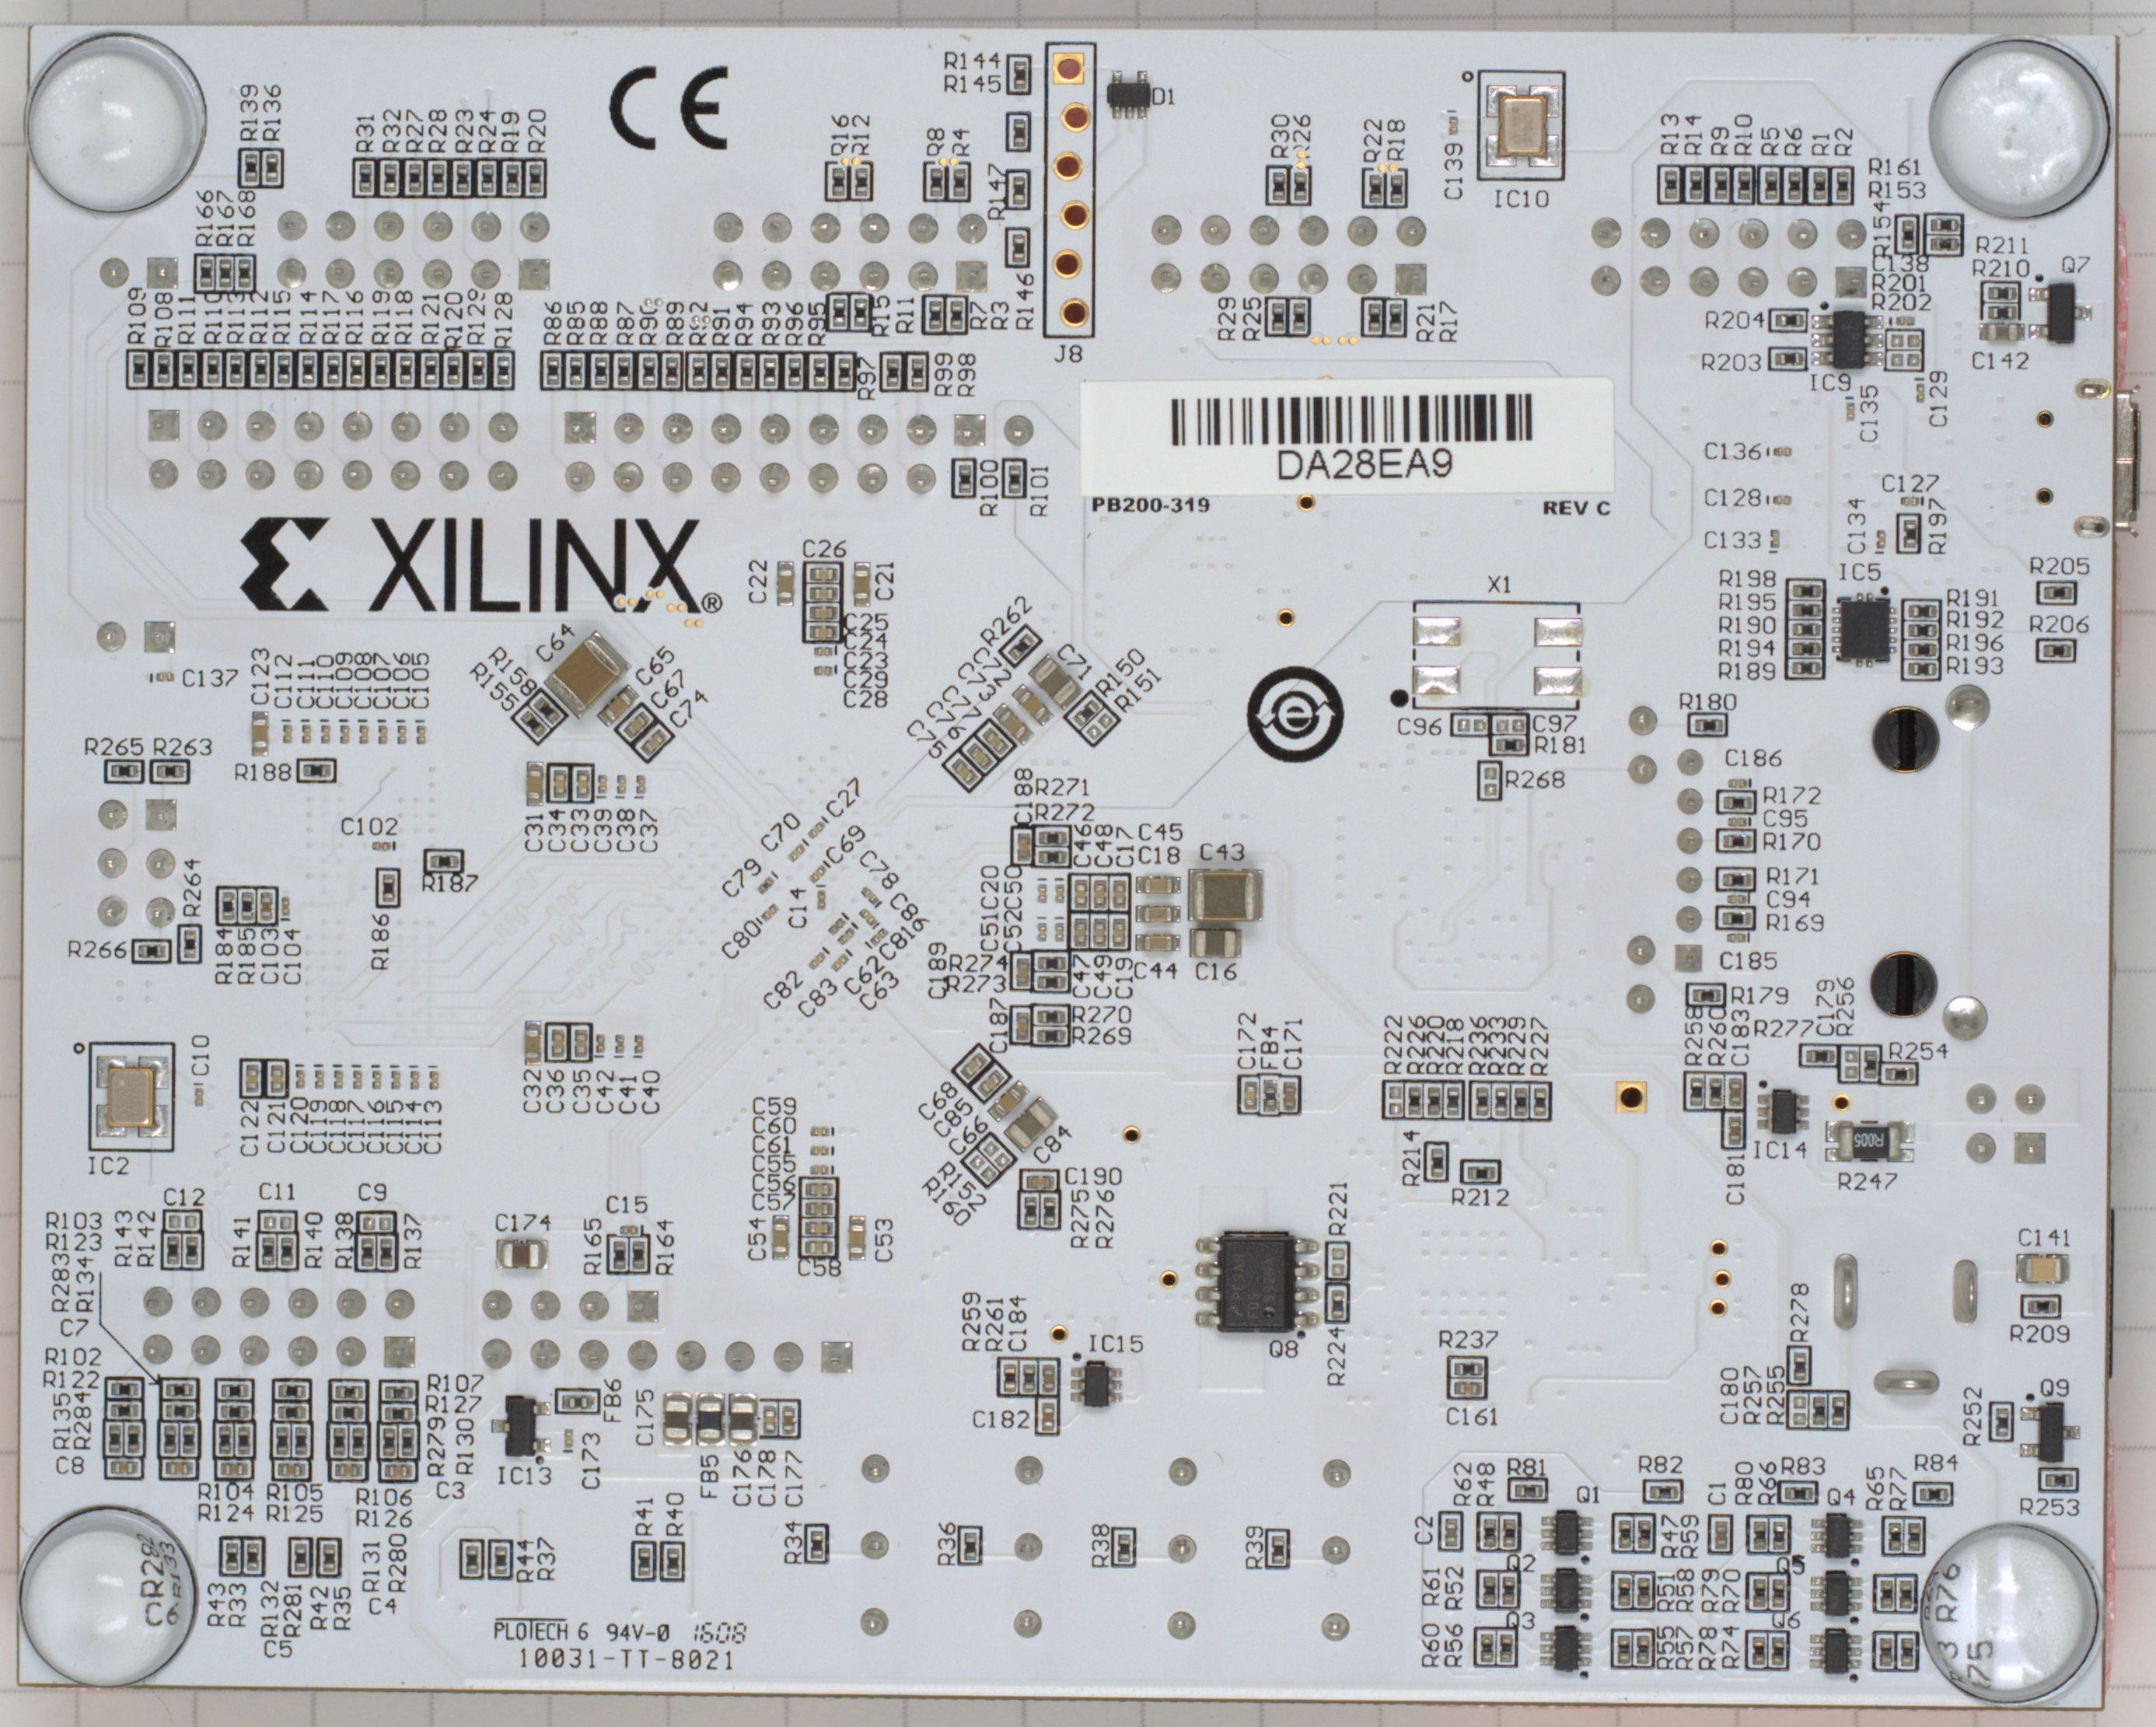capacitor C1: (1712, 1519, 1730, 1551)
capacitor C10: (194, 1087, 204, 1107)
capacitor C102: (372, 841, 391, 851)
capacitor C103: (259, 890, 275, 923)
capacitor C104: (280, 893, 291, 916)
capacitor C105: (416, 724, 426, 745)
capacitor C106: (398, 724, 407, 745)
capacitor C107: (379, 726, 388, 745)
capacitor C108: (358, 724, 368, 744)
capacitor C109: (338, 724, 349, 744)
capacitor C110: (319, 724, 329, 744)
capacitor C111: (301, 724, 312, 744)
capacitor C112: (282, 724, 292, 744)
capacitor C113: (428, 1070, 440, 1093)
capacitor C114: (409, 1070, 421, 1093)
capacitor C115: (389, 1070, 402, 1093)
capacitor C116: (372, 1070, 384, 1093)
capacitor C117: (352, 1068, 365, 1091)
capacitor C118: (333, 1068, 345, 1091)
capacitor C119: (314, 1068, 326, 1091)
capacitor C120: (294, 1068, 305, 1091)
capacitor C121: (269, 1064, 285, 1093)
capacitor C122: (245, 1064, 259, 1093)
capacitor C123: (252, 710, 268, 758)
capacitor C127: (1897, 497, 1920, 508)
capacitor C128: (1772, 495, 1793, 506)
capacitor C129: (1913, 382, 1925, 404)
capacitor C133: (1768, 529, 1781, 550)
capacitor C134: (1874, 529, 1887, 550)
capacitor C135: (1844, 400, 1857, 421)
capacitor C136: (1772, 446, 1793, 456)
capacitor C137: (155, 670, 176, 684)
capacitor C138: (1894, 315, 1916, 326)
capacitor C14: (816, 888, 828, 913)
capacitor C141: (2015, 1253, 2071, 1285)
capacitor C142: (1978, 324, 2024, 340)
capacitor C15: (618, 1225, 639, 1235)
capacitor C16: (1189, 927, 1242, 959)
capacitor C161: (1453, 1380, 1485, 1396)
capacitor C17: (1111, 879, 1127, 909)
capacitor C171: (1282, 1080, 1298, 1112)
capacitor C172: (1242, 1080, 1258, 1110)
capacitor C173: (564, 1427, 574, 1449)
capacitor C174: (495, 1237, 550, 1271)
capacitor C175: (662, 1390, 694, 1449)
capacitor C176: (727, 1390, 759, 1449)
capacitor C177: (782, 1405, 796, 1436)
capacitor C178: (761, 1403, 777, 1434)
capacitor C18: (1136, 904, 1180, 923)
capacitor C181: (1728, 1114, 1742, 1145)
capacitor C183: (1728, 1077, 1742, 1108)
capacitor C184: (1041, 1362, 1057, 1394), (1041, 1401, 1057, 1431)
capacitor C185: (1724, 932, 1746, 945)
capacitor C186: (1726, 777, 1749, 789)
capacitor C187: (1015, 1010, 1030, 1041)
capacitor C188: (1016, 832, 1030, 862)
capacitor C189: (1015, 957, 1030, 987)
capacitor C19: (1111, 916, 1127, 948)
capacitor C190: (1025, 1174, 1055, 1190)
capacitor C195: (1726, 816, 1747, 826)
capacitor C2: (1443, 1516, 1460, 1547)
capacitor C20: (1037, 883, 1048, 904)
capacitor C21: (853, 560, 870, 608)
capacitor C22: (777, 560, 794, 608)
capacitor C23: (808, 624, 838, 641)
capacitor C24: (808, 604, 838, 622)
capacitor C25: (808, 585, 838, 603)
capacitor C26: (808, 566, 838, 582)
capacitor C27: (807, 821, 826, 841)
capacitor C28: (812, 664, 833, 678)
capacitor C29: (812, 647, 833, 657)
capacitor C3: (382, 1463, 414, 1480)
capacitor C31: (525, 761, 544, 809)
capacitor C32: (525, 1019, 543, 1066)
capacitor C33: (576, 768, 590, 800)
capacitor C34: (551, 768, 569, 797)
capacitor C35: (572, 1027, 588, 1059)
capacitor C36: (550, 1026, 565, 1059)
capacitor C37: (634, 772, 648, 795)
capacitor C38: (615, 772, 629, 795)
capacitor C39: (597, 772, 609, 795)
capacitor C4: (333, 1463, 365, 1480)
capacitor C40: (632, 1033, 645, 1054)
capacitor C41: (613, 1033, 625, 1054)
capacitor C42: (594, 1031, 608, 1054)
capacitor C43: (1187, 867, 1265, 923)
capacitor C44: (1134, 932, 1180, 952)
capacitor C45: (1134, 876, 1180, 895)
capacitor C46: (1073, 879, 1089, 909)
capacitor C47: (1073, 916, 1089, 948)
capacitor C48: (1092, 879, 1108, 909)
capacitor C49: (1092, 916, 1108, 946)
capacitor C5: (277, 1461, 308, 1479)
capacitor C50: (1055, 883, 1066, 904)
capacitor C51: (1037, 922, 1048, 943)
capacitor C52: (1055, 922, 1064, 943)
capacitor C53: (849, 1216, 867, 1262)
capacitor C54: (772, 1214, 789, 1260)
capacitor C55: (803, 1181, 835, 1198)
capacitor C56: (803, 1202, 835, 1216)
capacitor C57: (803, 1221, 833, 1235)
capacitor C58: (803, 1239, 833, 1255)
capacitor C59: (810, 1126, 830, 1138)
capacitor C6: (218, 1461, 252, 1479)
capacitor C60: (810, 1145, 830, 1158)
capacitor C61: (810, 1163, 830, 1175)
capacitor C62: (826, 915, 847, 938)
capacitor C63: (835, 927, 856, 946)
capacitor C64: (539, 627, 634, 721)
capacitor C65: (592, 682, 641, 728)
capacitor C66: (986, 1078, 1032, 1124)
capacitor C67: (622, 708, 652, 740)
capacitor C68: (960, 1052, 988, 1084)
capacitor C69: (808, 863, 826, 885)
capacitor C7: (164, 1459, 196, 1477)
capacitor C70: (786, 842, 807, 862)
capacitor C71: (1025, 654, 1085, 710)
capacitor C72: (1011, 684, 1055, 726)
capacitor C73: (990, 701, 1036, 747)
capacitor C74: (638, 728, 669, 758)
capacitor C75: (949, 756, 978, 788)
capacitor C76: (964, 740, 993, 772)
capacitor C77: (981, 728, 1009, 754)
capacitor C78: (860, 885, 882, 906)
capacitor C79: (756, 874, 775, 895)
capacitor C8: (109, 1459, 139, 1475)
capacitor C81: (868, 925, 888, 946)
capacitor C82: (807, 952, 826, 971)
capacitor C83: (830, 952, 849, 973)
capacitor C84: (1002, 1094, 1062, 1153)
capacitor C85: (976, 1068, 1009, 1098)
capacitor C86: (858, 906, 879, 927)
capacitor C94: (1726, 893, 1747, 906)
component text" "PE9AH FDS 9926A: (1229, 1251, 1279, 1323)
component text" R005: (1851, 1130, 1885, 1151)
connector J8: (1050, 48, 1090, 331)
connector UNKNOWN: (2075, 375, 2142, 543)
diode D1: (1108, 69, 1150, 120)
ferrite bead" FB4: (1263, 1078, 1281, 1114)
ferrite bead" FB5: (696, 1390, 727, 1449)
ferrite bead" FB6: (560, 1394, 597, 1410)
ic IC10: (1485, 83, 1559, 169)
ic IC13: (491, 1396, 551, 1457)
ic IC14: (1758, 1089, 1811, 1135)
ic IC15: (1069, 1360, 1124, 1410)
ic IC2: (93, 1052, 173, 1140)
ic IC5: (1830, 590, 1897, 668)
ic IC9: (1811, 310, 1883, 370)
pads C11: (262, 1214, 294, 1230)
pads C12: (167, 1214, 199, 1228)
pads C179: (1844, 1049, 1858, 1080)
pads C180: (1791, 1394, 1805, 1426)
pads C9: (361, 1216, 393, 1230)
pads C96: (1455, 717, 1487, 733)
pads C97: (1492, 717, 1525, 733)
pads R151: (1083, 712, 1115, 740)
pads R152: (981, 1142, 1011, 1170)
pads R160: (969, 1154, 999, 1184)
pads R201: (1888, 333, 1922, 349)
pads R202: (1887, 352, 1920, 368)
pads R221: (1330, 1246, 1346, 1278)
pads R222: (1388, 1086, 1402, 1117)
pads R268: (1483, 765, 1497, 797)
pads x1: (1409, 599, 1584, 710)
pins UNKNOWN: (558, 409, 1037, 497), (144, 405, 523, 497), (477, 1286, 861, 1376), (137, 1283, 419, 1373), (1148, 210, 1430, 296), (1587, 213, 1869, 300), (710, 210, 990, 296), (273, 208, 553, 293), (1828, 1249, 1983, 1396), (97, 797, 176, 929), (1960, 1080, 2050, 1167), (1672, 745, 1705, 976), (856, 1449, 890, 1641), (1011, 1452, 1045, 1644), (1166, 1456, 1200, 1648), (1319, 1454, 1353, 1646), (93, 619, 180, 657), (1624, 701, 1661, 788), (1624, 932, 1659, 1019), (99, 256, 180, 291)
pins unknown: (1936, 678, 1992, 1049)
resistor R1: (1811, 169, 1827, 201)
resistor R10: (1735, 169, 1751, 201)
resistor R100: (956, 463, 972, 495)
resistor R101: (1006, 463, 1022, 495)
resistor R102: (109, 1382, 139, 1396)
resistor R103: (166, 1382, 196, 1397)
resistor R104: (218, 1382, 250, 1397)
resistor R105: (277, 1383, 306, 1397)
resistor R106: (335, 1383, 365, 1399)
resistor R107: (382, 1383, 416, 1401)
resistor R108: (157, 352, 171, 386)
resistor R109: (130, 352, 146, 384)
resistor R11: (851, 296, 867, 328)
resistor R110: (204, 352, 220, 384)
resistor R111: (180, 352, 197, 384)
resistor R112: (252, 352, 268, 384)
resistor R113: (227, 352, 245, 384)
resistor R114: (299, 352, 315, 384)
resistor R115: (275, 352, 291, 384)
resistor R116: (347, 352, 363, 384)
resistor R117: (326, 354, 340, 386)
resistor R118: (398, 354, 412, 386)
resistor R119: (372, 354, 388, 386)
resistor R12: (853, 166, 868, 197)
resistor R120: (446, 354, 461, 386)
resistor R121: (423, 354, 439, 386)
resistor R122: (109, 1403, 139, 1419)
resistor R123: (164, 1403, 196, 1419)
resistor R124: (218, 1403, 252, 1420)
resistor R125: (275, 1403, 306, 1420)
resistor R126: (333, 1405, 365, 1422)
resistor R127: (382, 1405, 414, 1422)
resistor R128: (495, 354, 511, 386)
resistor R129: (470, 354, 484, 386)
resistor R13: (1663, 167, 1679, 199)
resistor R130: (400, 1424, 417, 1457)
resistor R131: (331, 1424, 347, 1457)
resistor R132: (273, 1424, 291, 1456)
resistor R133: (236, 1424, 252, 1456)
resistor R134: (181, 1422, 197, 1456)
resistor R135: (106, 1422, 123, 1456)
resistor R136: (264, 152, 278, 183)
resistor R137: (379, 1237, 393, 1269)
resistor R138: (243, 152, 259, 185), (361, 1237, 375, 1269)
resistor R14: (1687, 169, 1703, 201)
resistor R140: (280, 1237, 294, 1267)
resistor R141: (261, 1235, 277, 1267)
resistor R142: (185, 1235, 199, 1265)
resistor R143: (166, 1235, 180, 1265)
resistor R144: (1013, 58, 1027, 92)
resistor R145: (1011, 116, 1027, 148)
resistor R146: (1009, 233, 1027, 264)
resistor R147: (1009, 174, 1027, 206)
resistor R15: (831, 296, 847, 328)
resistor R150: (1071, 698, 1101, 728)
resistor R153: (1929, 236, 1959, 252)
resistor R154: (1901, 219, 1915, 250)
resistor R155: (518, 710, 548, 738)
resistor R158: (530, 696, 560, 724)
resistor R16: (830, 166, 845, 199)
resistor R161: (1929, 219, 1960, 233)
resistor R164: (632, 1239, 646, 1271)
resistor R165: (613, 1241, 627, 1271)
resistor R166: (199, 257, 213, 289)
resistor R167: (218, 257, 233, 289)
resistor R168: (236, 257, 252, 289)
resistor R169: (1721, 909, 1751, 927)
resistor R17: (1386, 303, 1402, 333)
resistor R171: (1721, 872, 1753, 888)
resistor R172: (1721, 795, 1753, 811)
resistor R179: (1691, 987, 1723, 1003)
resistor R18: (1388, 173, 1404, 204)
resistor R180: (1693, 717, 1724, 735)
resistor R181: (1494, 737, 1525, 754)
resistor R184: (220, 890, 236, 923)
resistor R185: (240, 890, 255, 923)
resistor R186: (380, 872, 395, 902)
resistor R187: (428, 853, 458, 869)
resistor R188: (303, 761, 331, 777)
resistor R189: (1790, 661, 1820, 675)
resistor R19: (504, 162, 520, 196)
resistor R190: (1790, 622, 1821, 638)
resistor R191: (1906, 603, 1938, 619)
resistor R192: (1906, 622, 1938, 638)
resistor R193: (1904, 661, 1938, 677)
resistor R194: (1790, 641, 1821, 657)
resistor R195: (1790, 603, 1821, 619)
resistor R196: (1904, 641, 1938, 657)
resistor R197: (1902, 516, 1916, 552)
resistor R198: (1790, 583, 1821, 599)
resistor R2: (1834, 169, 1850, 201)
resistor R20: (527, 162, 543, 196)
resistor R203: (1772, 351, 1804, 367)
resistor R204: (1774, 312, 1805, 330)
resistor R205: (2042, 583, 2073, 603)
resistor R206: (2040, 641, 2071, 659)
resistor R209: (2026, 1299, 2057, 1316)
resistor R21: (1367, 303, 1381, 333)
resistor R210: (1985, 305, 2017, 321)
resistor R211: (1983, 285, 2017, 301)
resistor R212: (1466, 1165, 1497, 1181)
resistor R214: (1429, 1147, 1444, 1179)
resistor R218: (1446, 1086, 1460, 1117)
resistor R22: (1367, 173, 1383, 204)
resistor R220: (1427, 1086, 1441, 1117)
resistor R224: (1328, 1285, 1347, 1323)
resistor R226: (1407, 1086, 1421, 1117)
resistor R227: (1532, 1086, 1547, 1117)
resistor R229: (1513, 1086, 1527, 1117)
resistor R23: (454, 162, 470, 196)
resistor R233: (1494, 1086, 1510, 1117)
resistor R236: (1474, 1086, 1490, 1117)
resistor R237: (1453, 1360, 1485, 1376)
resistor R24: (479, 162, 495, 196)
resistor R247: (1825, 1119, 1916, 1163)
resistor R25: (1291, 301, 1307, 331)
resistor R252: (1994, 1406, 2012, 1440)
resistor R253: (2043, 1471, 2077, 1489)
resistor R254: (1885, 1066, 1916, 1082)
resistor R255: (1830, 1394, 1846, 1426)
resistor R256: (1864, 1049, 1879, 1078)
resistor R257: (1811, 1396, 1827, 1427)
resistor R258: (1687, 1075, 1702, 1105)
resistor R259: (1002, 1362, 1018, 1394)
resistor R26: (1293, 171, 1307, 203)
resistor R260: (1709, 1077, 1723, 1107)
resistor R261: (1022, 1362, 1036, 1394)
resistor R262: (1006, 633, 1036, 661)
resistor R263: (155, 763, 185, 779)
resistor R264: (181, 927, 197, 959)
resistor R265: (109, 763, 139, 781)
resistor R266: (136, 943, 167, 960)
resistor R269: (1036, 1027, 1067, 1043)
resistor R27: (407, 162, 423, 194)
resistor R270: (1036, 1008, 1067, 1026)
resistor R271: (1037, 830, 1067, 846)
resistor R272: (1036, 849, 1067, 865)
resistor R273: (1036, 973, 1067, 990)
resistor R274: (1036, 955, 1067, 971)
resistor R275: (1023, 1195, 1037, 1227)
resistor R276: (1041, 1195, 1057, 1227)
resistor R277: (1805, 1049, 1835, 1064)
resistor R278: (1791, 1350, 1807, 1382)
resistor R279: (380, 1426, 398, 1457)
resistor R28: (430, 162, 444, 194)
resistor R280: (351, 1426, 366, 1457)
resistor R281: (292, 1424, 310, 1456)
resistor R282: (217, 1424, 233, 1456)
resistor R283: (162, 1422, 178, 1456)
resistor R284: (127, 1422, 141, 1456)
resistor R29: (1270, 301, 1284, 331)
resistor R3: (949, 298, 964, 331)
resistor R30: (1272, 171, 1286, 203)
resistor R31: (358, 162, 372, 194)
resistor R32: (380, 162, 398, 194)
resistor R33: (245, 1542, 261, 1574)
resistor R34: (808, 1528, 824, 1561)
resistor R35: (321, 1542, 338, 1574)
resistor R36: (962, 1531, 978, 1563)
resistor R37: (493, 1544, 509, 1575)
resistor R38: (1117, 1533, 1133, 1565)
resistor R39: (1270, 1533, 1286, 1565)
resistor R4: (951, 167, 965, 199)
resistor R40: (666, 1547, 682, 1579)
resistor R41: (638, 1545, 652, 1577)
resistor R42: (292, 1542, 310, 1574)
resistor R43: (225, 1540, 240, 1572)
resistor R44: (465, 1544, 481, 1575)
resistor R47: (1617, 1517, 1631, 1551)
resistor R48: (1501, 1516, 1517, 1549)
resistor R5: (1763, 169, 1777, 201)
resistor R51: (1617, 1575, 1631, 1607)
resistor R52: (1501, 1574, 1517, 1607)
resistor R55: (1615, 1634, 1631, 1667)
resistor R56: (1499, 1632, 1513, 1664)
resistor R57: (1635, 1634, 1650, 1667)
resistor R58: (1636, 1575, 1652, 1607)
resistor R59: (1638, 1517, 1652, 1551)
resistor R6: (1786, 169, 1802, 201)
resistor R60: (1480, 1632, 1494, 1664)
resistor R61: (1481, 1574, 1497, 1605)
resistor R62: (1481, 1516, 1497, 1549)
resistor R65: (1887, 1521, 1904, 1553)
resistor R66: (1772, 1521, 1788, 1551)
resistor R69: (1878, 1577, 1894, 1611)
resistor R7: (927, 300, 942, 331)
resistor R70: (1770, 1577, 1786, 1609)
resistor R73: (1878, 1635, 1894, 1669)
resistor R74: (1770, 1634, 1786, 1667)
resistor R75: (1899, 1635, 1915, 1669)
resistor R76: (1897, 1579, 1913, 1611)
resistor R77: (1906, 1521, 1922, 1554)
resistor R78: (1751, 1634, 1767, 1667)
resistor R79: (1751, 1575, 1768, 1609)
resistor R8: (928, 166, 942, 199)
resistor R80: (1753, 1519, 1767, 1551)
resistor R81: (1513, 1482, 1545, 1500)
resistor R82: (1647, 1484, 1680, 1501)
resistor R83: (1783, 1486, 1816, 1501)
resistor R84: (1916, 1486, 1950, 1503)
resistor R85: (565, 352, 583, 386)
resistor R86: (544, 356, 560, 386)
resistor R87: (615, 354, 631, 388)
resistor R88: (592, 354, 609, 388)
resistor R89: (664, 354, 680, 388)
resistor R9: (1712, 169, 1728, 201)
resistor R90: (641, 354, 657, 388)
resistor R91: (713, 356, 729, 388)
resistor R92: (690, 356, 706, 388)
resistor R93: (763, 356, 777, 388)
resistor R94: (738, 356, 754, 388)
resistor R95: (812, 356, 828, 388)
resistor R96: (787, 356, 801, 388)
resistor R97: (837, 356, 851, 388)
resistor R98: (909, 358, 925, 389)
resistor R99: (884, 358, 900, 389)
test point" J11: (1612, 1078, 1647, 1117)
text "10031-TT-8021: (518, 1646, 736, 1671)
text "94V-0: (604, 1621, 673, 1644)
text "PB200-319: (1090, 495, 1212, 516)
text "PLOTECH 6: (491, 1616, 592, 1644)
text "REV C: (1541, 499, 1612, 518)
text 1608: (692, 1621, 749, 1646)
text C1: (1705, 1480, 1728, 1507)
text C10: (190, 1033, 211, 1077)
text C102: (340, 814, 400, 839)
text C103: (259, 927, 280, 987)
text C104: (280, 925, 301, 985)
text C105: (410, 650, 430, 710)
text C106: (391, 650, 412, 710)
text C107: (372, 650, 391, 710)
text C108: (352, 650, 372, 710)
text C109: (335, 650, 354, 710)
text C11: (257, 1181, 296, 1202)
text C110: (315, 652, 335, 710)
text C111: (294, 656, 315, 710)
text C112: (271, 650, 294, 710)
text C113: (423, 1100, 442, 1156)
text C114: (403, 1100, 423, 1156)
text C115: (384, 1098, 405, 1154)
text C116: (365, 1098, 384, 1154)
text C117: (347, 1098, 366, 1154)
text C118: (328, 1098, 347, 1154)
text C119: (308, 1100, 328, 1156)
text C12: (162, 1184, 206, 1209)
text C120: (289, 1096, 310, 1154)
text C121: (266, 1100, 287, 1156)
text C122: (240, 1098, 261, 1158)
text C123: (248, 647, 271, 707)
text C127: (1879, 472, 1939, 495)
text C128: (1703, 486, 1761, 509)
text C129: (1927, 370, 1948, 430)
text C133: (1703, 529, 1761, 550)
text C134: (1844, 497, 1867, 557)
text C135: (1858, 384, 1879, 444)
text C136: (1703, 441, 1761, 462)
text C137: (181, 668, 240, 689)
text C138: (1871, 256, 1931, 273)
text C139: (1441, 139, 1464, 201)
text C14: (786, 885, 808, 930)
text C141: (2017, 1227, 2073, 1249)
text C142: (1971, 349, 2029, 372)
text C15: (604, 1193, 650, 1216)
text C16: (1194, 959, 1238, 982)
text C161: (1446, 1406, 1499, 1429)
text C17: (1113, 823, 1134, 869)
text C171: (1281, 1017, 1303, 1070)
text C172: (1237, 1012, 1258, 1071)
text C173: (580, 1431, 602, 1493)
text C174: (493, 1211, 551, 1234)
text C175: (634, 1387, 655, 1449)
text C176: (731, 1449, 752, 1510)
text C177: (784, 1449, 805, 1508)
text C178: (756, 1447, 777, 1508)
text C179: (1814, 978, 1835, 1038)
text C18: (1136, 844, 1184, 865)
text C180: (1717, 1366, 1740, 1427)
text C181: (1724, 1151, 1747, 1207)
text C182: (971, 1410, 1032, 1431)
text C183: (1730, 1008, 1751, 1068)
text C184: (1008, 1293, 1030, 1353)
text C185: (1719, 950, 1779, 971)
text C186: (1723, 747, 1783, 770)
text C187: (988, 996, 1009, 1057)
text C188: (1013, 767, 1034, 826)
text C189: (928, 941, 946, 1001)
text C19: (1111, 955, 1134, 999)
text C190: (1062, 1165, 1124, 1186)
text C2: (1413, 1516, 1434, 1547)
text C20: (979, 862, 1000, 911)
text C21: (874, 560, 895, 603)
text C22: (747, 557, 768, 606)
text C23: (842, 650, 890, 670)
text C24: (844, 631, 888, 650)
text C25: (842, 611, 890, 631)
text C26: (801, 537, 847, 559)
text C27: (824, 775, 868, 818)
text C28: (842, 689, 888, 708)
text C29: (842, 670, 888, 689)
text C3: (435, 1479, 467, 1501)
text C31: (523, 811, 544, 853)
text C32: (520, 1068, 543, 1116)
text C33: (569, 807, 590, 853)
text C34: (546, 807, 567, 853)
text C35: (569, 1066, 590, 1114)
text C36: (544, 1066, 565, 1116)
text C37: (638, 807, 657, 853)
text C38: (615, 807, 636, 853)
text C39: (592, 807, 613, 853)
text C4: (368, 1595, 400, 1618)
text C40: (638, 1066, 661, 1116)
text C41: (617, 1073, 638, 1116)
text C42: (594, 1066, 617, 1116)
text C43: (1198, 841, 1245, 862)
text C44: (1134, 959, 1178, 980)
text C45: (1136, 821, 1184, 842)
text C46: (1073, 823, 1092, 869)
text C47: (1069, 953, 1092, 999)
text C48: (1094, 823, 1113, 869)
text C49: (1090, 953, 1113, 1001)
text C5: (262, 1639, 292, 1660)
text C50: (1002, 863, 1023, 908)
text C51: (978, 913, 999, 953)
text C52: (1002, 909, 1023, 955)
text C53: (874, 1218, 893, 1264)
text C54: (745, 1216, 768, 1264)
text C55: (752, 1154, 796, 1174)
text C56: (750, 1174, 796, 1193)
text C57: (750, 1191, 796, 1211)
text C58: (796, 1256, 842, 1278)
text C59: (750, 1096, 798, 1116)
text C6: (141, 1600, 183, 1628)
text C60: (750, 1116, 798, 1135)
text C61: (750, 1135, 794, 1154)
text C62: (842, 957, 884, 997)
text C63: (858, 969, 898, 1012)
text C64: (535, 620, 578, 664)
text C65: (636, 643, 675, 687)
text C66: (948, 1114, 990, 1158)
text C67: (650, 666, 687, 712)
text C68: (916, 1078, 960, 1123)
text C69: (823, 823, 865, 867)
text C7: (58, 1316, 92, 1339)
text C70: (757, 811, 803, 853)
text C71: (1055, 641, 1094, 682)
text C72: (971, 645, 1013, 689)
text C73: (955, 659, 997, 703)
text C74: (668, 687, 710, 730)
text C75: (904, 717, 949, 760)
text C76: (921, 700, 967, 742)
text C77: (939, 682, 983, 721)
text C78: (858, 848, 900, 892)
text C79: (719, 856, 763, 901)
text C8: (55, 1454, 86, 1479)
text C80: (719, 918, 761, 959)
text C81: (877, 923, 916, 960)
text C82: (763, 967, 805, 1012)
text C83: (796, 976, 838, 1019)
text C85: (932, 1096, 974, 1138)
text C86: (888, 890, 930, 934)
text C9: (358, 1181, 389, 1204)
text C94: (1765, 888, 1811, 909)
text C95: (1763, 809, 1809, 828)
text C96: (1397, 715, 1444, 738)
text C97: (1531, 712, 1578, 733)
text CE: (604, 60, 735, 155)
text D1: (1152, 85, 1175, 107)
text DA28EA9: (1275, 446, 1455, 483)
text FB4: (1259, 1024, 1281, 1070)
text FB5: (698, 1452, 720, 1503)
text FB6: (601, 1376, 624, 1427)
text IC10: (1492, 187, 1552, 211)
text IC13: (495, 1464, 553, 1487)
text IC14: (1751, 1138, 1809, 1161)
text IC15: (1089, 1332, 1145, 1355)
text IC2: (86, 1154, 132, 1177)
text IC5: (1835, 560, 1883, 585)
text IC9: (1809, 372, 1853, 395)
text J8: (1052, 344, 1083, 365)
text Q1: (1575, 1484, 1601, 1505)
text Q2: (1504, 1553, 1538, 1575)
text Q3: (1504, 1609, 1536, 1632)
text Q4: (1827, 1486, 1858, 1508)
text Q5: (1774, 1553, 1807, 1575)
text Q6: (1770, 1609, 1802, 1630)
text Q7: (2061, 254, 2093, 277)
text Q8: (1268, 1338, 1300, 1360)
text Q9: (2038, 1376, 2071, 1399)
text R1: (1811, 130, 1830, 159)
text R10: (1731, 113, 1754, 159)
text R100: (978, 456, 1000, 518)
text R101: (1029, 463, 1050, 520)
text R102: (42, 1345, 104, 1369)
text R103: (42, 1209, 104, 1232)
text R104: (196, 1482, 257, 1501)
text R105: (264, 1482, 326, 1503)
text R106: (354, 1487, 416, 1508)
text R107: (425, 1371, 486, 1394)
text R108: (151, 291, 173, 349)
text R109: (127, 284, 146, 345)
text R11: (895, 294, 916, 335)
text R110: (203, 293, 222, 345)
text R111: (176, 296, 197, 345)
text R112: (248, 291, 269, 345)
text R113: (225, 293, 245, 345)
text R114: (298, 291, 319, 345)
text R115: (271, 291, 292, 345)
text R116: (343, 289, 365, 345)
text R117: (319, 289, 340, 345)
text R118: (393, 289, 414, 345)
text R119: (370, 291, 391, 345)
text R12: (849, 113, 870, 157)
text R120: (440, 291, 465, 349)
text R121: (419, 293, 442, 345)
text R122: (41, 1369, 100, 1390)
text R123: (44, 1232, 104, 1251)
text R124: (197, 1501, 259, 1523)
text R125: (264, 1503, 326, 1524)
text R126: (354, 1508, 416, 1528)
text R127: (425, 1392, 484, 1415)
text R128: (491, 291, 513, 349)
text R129: (465, 285, 486, 347)
text R13: (1659, 111, 1680, 159)
text R130: (454, 1417, 477, 1477)
text R131: (361, 1538, 382, 1595)
text R132: (259, 1579, 280, 1639)
text R133: (159, 1538, 183, 1600)
text R134: (74, 1253, 97, 1315)
text R135: (51, 1390, 72, 1454)
text R136: (259, 83, 280, 145)
text R137: (403, 1211, 425, 1271)
text R138: (333, 1211, 354, 1271)
text R139: (238, 81, 259, 143)
text R14: (1682, 113, 1705, 159)
text R140: (303, 1209, 326, 1271)
text R141: (231, 1214, 252, 1269)
text R142: (136, 1207, 157, 1269)
text R143: (113, 1207, 134, 1271)
text R144: (942, 48, 1002, 72)
text R145: (942, 72, 1004, 95)
text R146: (1015, 271, 1036, 333)
text R147: (985, 160, 1008, 222)
text R15: (870, 294, 891, 338)
text R150: (1094, 647, 1145, 700)
text R151: (1111, 666, 1161, 714)
text R152: (935, 1160, 988, 1212)
text R153: (1867, 178, 1927, 201)
text R154: (1871, 201, 1892, 257)
text R155: (469, 661, 518, 714)
text R158: (484, 643, 537, 700)
text R16: (828, 113, 849, 157)
text R160: (919, 1175, 972, 1228)
text R161: (1867, 157, 1922, 178)
text R164: (655, 1218, 676, 1278)
text R165: (581, 1218, 604, 1278)
text R166: (192, 187, 213, 248)
text R167: (215, 189, 236, 250)
text R168: (236, 189, 257, 250)
text R169: (1765, 913, 1825, 932)
text R17: (1437, 298, 1460, 345)
text R170: (1761, 830, 1821, 853)
text R171: (1767, 865, 1820, 886)
text R172: (1761, 784, 1825, 805)
text R179: (1730, 985, 1791, 1006)
text R18: (1384, 118, 1406, 164)
text R180: (1677, 693, 1739, 712)
text R181: (1532, 735, 1585, 756)
text R184: (213, 927, 234, 987)
text R185: (234, 925, 257, 985)
text R186: (368, 911, 389, 973)
text R187: (421, 872, 481, 893)
text R188: (233, 761, 294, 782)
text R189: (1717, 661, 1776, 682)
text R19: (498, 107, 521, 155)
text R190: (1717, 615, 1776, 636)
text R191: (1945, 587, 1999, 608)
text R192: (1945, 610, 2005, 629)
text R193: (1945, 656, 2003, 677)
text R194: (1716, 638, 1776, 659)
text R195: (1717, 590, 1777, 613)
text R196: (1943, 633, 2005, 652)
text R197: (1925, 497, 1948, 557)
text R198: (1717, 567, 1777, 589)
text R2: (1832, 125, 1855, 159)
text R20: (525, 107, 546, 155)
text R201: (1871, 271, 1927, 293)
text R202: (1871, 293, 1932, 314)
text R203: (1700, 351, 1763, 374)
text R204: (1703, 308, 1765, 331)
text R205: (2027, 555, 2091, 578)
text R206: (2026, 613, 2089, 636)
text R209: (2010, 1323, 2071, 1346)
text R21: (1414, 301, 1436, 344)
text R210: (1971, 257, 2029, 280)
text R211: (1975, 234, 2029, 256)
text R212: (1450, 1186, 1511, 1209)
text R214: (1400, 1128, 1421, 1188)
text R218: (1446, 1019, 1466, 1077)
text R22: (1362, 115, 1383, 166)
text R220: (1427, 1013, 1446, 1075)
text R221: (1328, 1181, 1347, 1237)
text R222: (1383, 1013, 1404, 1075)
text R224: (1326, 1325, 1347, 1390)
text R226: (1406, 1013, 1427, 1075)
text R227: (1529, 1017, 1550, 1077)
text R229: (1508, 1015, 1525, 1077)
text R23: (451, 107, 474, 155)
text R233: (1488, 1015, 1506, 1077)
text R236: (1467, 1015, 1487, 1077)
text R237: (1437, 1329, 1499, 1350)
text R24: (476, 106, 498, 155)
text R247: (1837, 1172, 1901, 1191)
text R25: (1240, 294, 1261, 342)
text R252: (1960, 1385, 1983, 1449)
text R253: (2019, 1494, 2082, 1519)
text R254: (1887, 1040, 1950, 1061)
text R255: (1765, 1364, 1786, 1426)
text R256: (1835, 975, 1855, 1038)
text R257: (1740, 1362, 1765, 1426)
text R258: (1684, 1006, 1705, 1066)
text R259: (960, 1290, 981, 1353)
text R26: (1291, 111, 1312, 162)
text R260: (1707, 1006, 1726, 1066)
text R261: (983, 1295, 1006, 1353)
text R262: (976, 592, 1034, 647)
text R263: (153, 735, 215, 758)
text R264: (181, 855, 204, 920)
text R265: (81, 737, 144, 758)
text R266: (67, 939, 129, 960)
text R268: (1504, 768, 1566, 791)
text R269: (1073, 1026, 1134, 1047)
text R27: (403, 106, 426, 155)
text R270: (1073, 1004, 1134, 1026)
text R271: (1034, 774, 1090, 797)
text R272: (1034, 800, 1096, 823)
text R273: (946, 973, 1008, 994)
text R274: (949, 952, 1009, 973)
text R275: (1067, 1188, 1090, 1251)
text R276: (1094, 1188, 1115, 1251)
text R277: (1753, 1017, 1814, 1040)
text R278: (1790, 1281, 1811, 1343)
text R279: (425, 1415, 447, 1479)
text R28: (426, 106, 449, 155)
text R280: (388, 1531, 409, 1595)
text R281: (282, 1582, 303, 1639)
text R282: (132, 1531, 166, 1600)
text R283: (51, 1251, 70, 1316)
text R284: (72, 1390, 93, 1452)
text R29: (1215, 294, 1238, 344)
text R3: (988, 300, 1009, 331)
text R30: (1268, 111, 1289, 162)
text R31: (354, 111, 375, 155)
text R32: (379, 106, 402, 153)
text R33: (227, 1581, 248, 1628)
text R34: (784, 1519, 803, 1567)
text R35: (331, 1584, 352, 1632)
text R36: (937, 1521, 956, 1568)
text R37: (535, 1535, 557, 1582)
text R38: (1090, 1523, 1110, 1570)
text R39: (1244, 1524, 1265, 1572)
text R4: (949, 125, 971, 159)
text R40: (662, 1489, 685, 1538)
text R41: (634, 1496, 657, 1538)
text R42: (308, 1584, 329, 1632)
text R43: (206, 1581, 227, 1628)
text R44: (513, 1537, 535, 1584)
text R47: (1659, 1514, 1679, 1560)
text R48: (1476, 1461, 1495, 1508)
text R5: (1758, 125, 1781, 159)
text R51: (1656, 1570, 1675, 1614)
text R52: (1444, 1565, 1466, 1614)
text R55: (1656, 1625, 1675, 1672)
text R56: (1443, 1621, 1464, 1671)
text R57: (1675, 1625, 1695, 1672)
text R58: (1675, 1568, 1695, 1614)
text R59: (1679, 1514, 1700, 1560)
text R6: (1783, 125, 1804, 159)
text R60: (1420, 1621, 1441, 1671)
text R61: (1420, 1567, 1441, 1607)
text R62: (1453, 1461, 1473, 1508)
text R65: (1864, 1464, 1887, 1512)
text R66: (1758, 1459, 1777, 1507)
text R69: (1922, 1570, 1938, 1625)
text R7: (969, 300, 988, 331)
text R70: (1721, 1567, 1740, 1614)
text R73: (1936, 1639, 1966, 1690)
text R74: (1721, 1623, 1740, 1672)
text R75: (1964, 1641, 1997, 1694)
text R76: (1934, 1561, 1962, 1625)
text R77: (1887, 1464, 1911, 1512)
text R78: (1698, 1625, 1717, 1672)
text R79: (1700, 1567, 1721, 1614)
text R8: (925, 125, 946, 159)
text R80: (1733, 1459, 1754, 1507)
text R81: (1506, 1456, 1548, 1479)
text R82: (1636, 1454, 1686, 1475)
text R83: (1779, 1456, 1828, 1477)
text R84: (1913, 1452, 1960, 1475)
text R85: (564, 298, 587, 347)
text R86: (541, 300, 564, 347)
text R87: (613, 298, 636, 347)
text R88: (587, 300, 609, 347)
text R89: (664, 300, 685, 347)
text R9: (1707, 125, 1730, 159)
text R90: (638, 301, 657, 347)
text R91: (710, 305, 729, 349)
text R92: (687, 300, 708, 347)
text R93: (759, 300, 782, 347)
text R94: (733, 301, 754, 347)
text R95: (805, 301, 826, 347)
text R96: (782, 300, 805, 347)
text R97: (856, 354, 877, 404)
text R98: (955, 351, 976, 400)
text R99: (932, 351, 953, 400)
text X1: (1485, 573, 1513, 596)
text XILINX: (366, 513, 705, 615)
text e: (1270, 687, 1319, 740)
transistor Q1: (1541, 1510, 1594, 1556)
transistor Q2: (1539, 1567, 1592, 1612)
transistor Q3: (1539, 1625, 1594, 1671)
transistor Q4: (1811, 1514, 1864, 1560)
transistor Q5: (1811, 1570, 1864, 1616)
transistor Q6: (1809, 1628, 1864, 1674)
transistor Q7: (2029, 284, 2093, 344)
transistor Q8: (1196, 1230, 1319, 1334)
transistor Q9: (2019, 1401, 2082, 1463)
